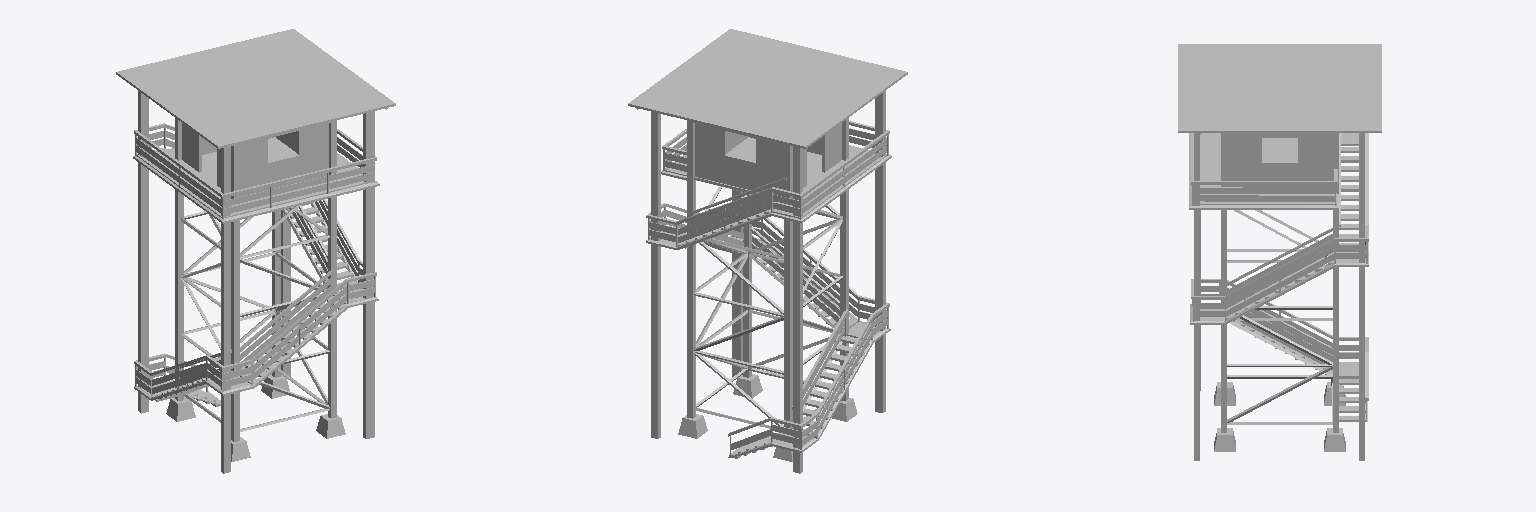
The model's file is tower.obj.
3 views of the same model, side by side, from view 1: azimuth 30°, elevation 25°; view 2: azimuth 150°, elevation 25°; view 3: azimuth 270°, elevation 25° (orthographic).
Visible parts, largest first — view 1: watchtowerHigh_watchtower; view 2: watchtowerHigh_watchtower; view 3: watchtowerHigh_watchtower.
Part boxes in pixels (bbox=[...]): watchtowerHigh_watchtower: bbox=[116, 29, 395, 473]; watchtowerHigh_watchtower: bbox=[628, 29, 907, 473]; watchtowerHigh_watchtower: bbox=[1178, 44, 1381, 460].
Bounding box in the file's own units: 4.22 × 7.65 × 4.22.